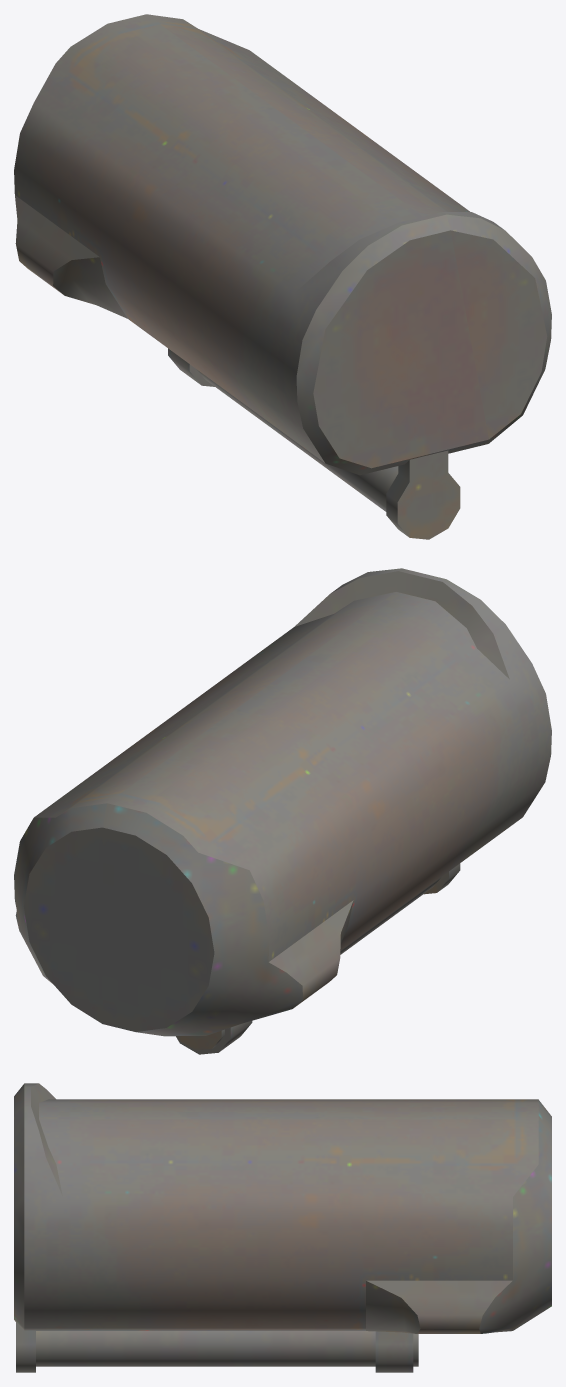
The model's file is barrel4.obj.
The picture shows the model from 3 angles, top to bottom: view 1: azimuth 30°, elevation 25°; view 2: azimuth 150°, elevation 25°; view 3: azimuth 270°, elevation 25°; orthographic projection. The views are drawn at different scales.
Parts seen in each view (by area): view 1: barrel4; view 2: barrel4; view 3: barrel4.
Boxes of the visible parts, x1,y1,x2,y2 form: barrel4: [14, 14, 551, 539]; barrel4: [14, 568, 551, 1054]; barrel4: [14, 1083, 551, 1372].
Bounding box in the file's own units: 15.56 × 16.39 × 29.24.
